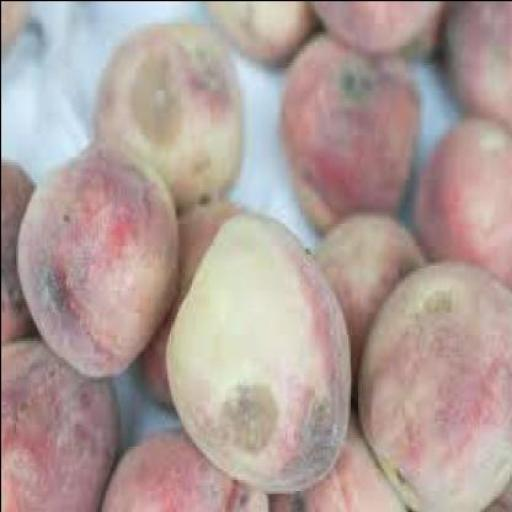biodegradable: (163, 206, 347, 492), (355, 256, 510, 510), (13, 145, 175, 376), (90, 20, 240, 200), (282, 33, 415, 223), (303, 206, 421, 406), (132, 200, 240, 409), (1, 328, 116, 510), (411, 112, 510, 289), (266, 401, 407, 509), (95, 426, 268, 509), (439, 1, 511, 123), (200, 0, 319, 62), (305, 0, 441, 50), (1, 155, 36, 337), (1, 1, 27, 43), (482, 476, 510, 509)
